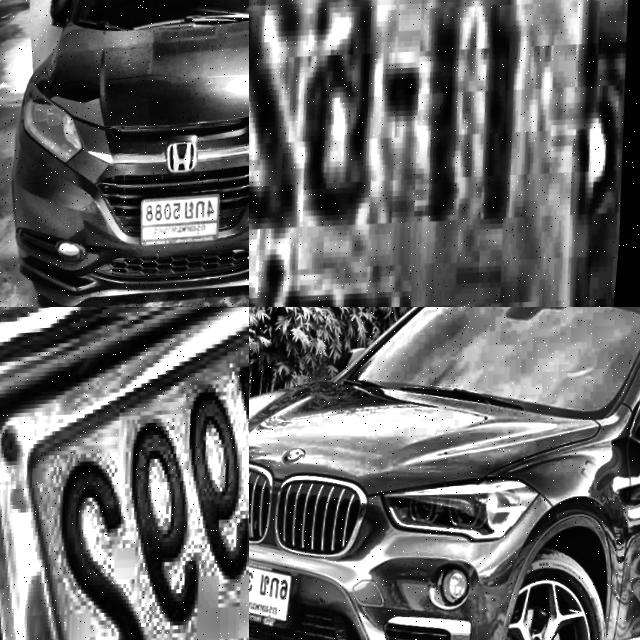license-plate: (249, 0, 640, 307), (0, 307, 249, 640), (249, 551, 313, 637), (143, 188, 230, 249)
